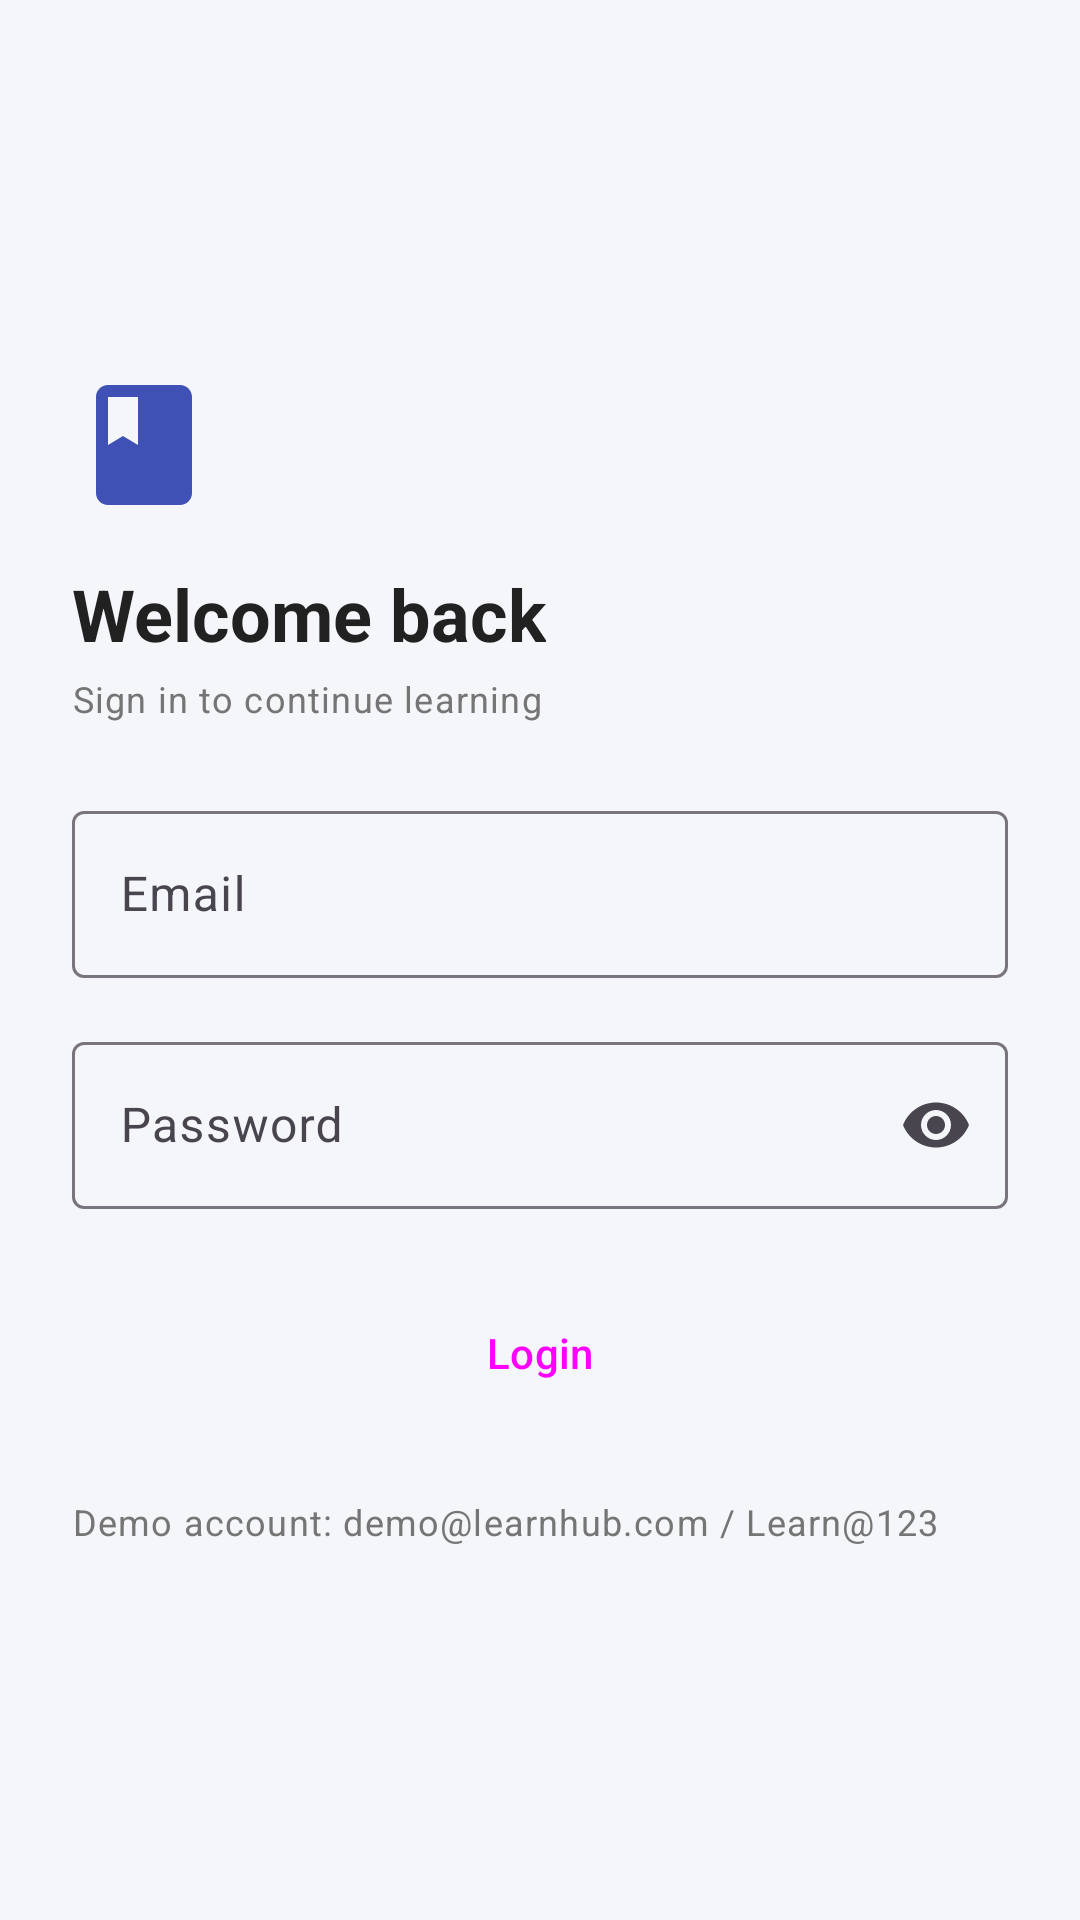

Icon click points for this 1080*1920 phone screenshot, format point (x, y):
Course: point (144, 445)
